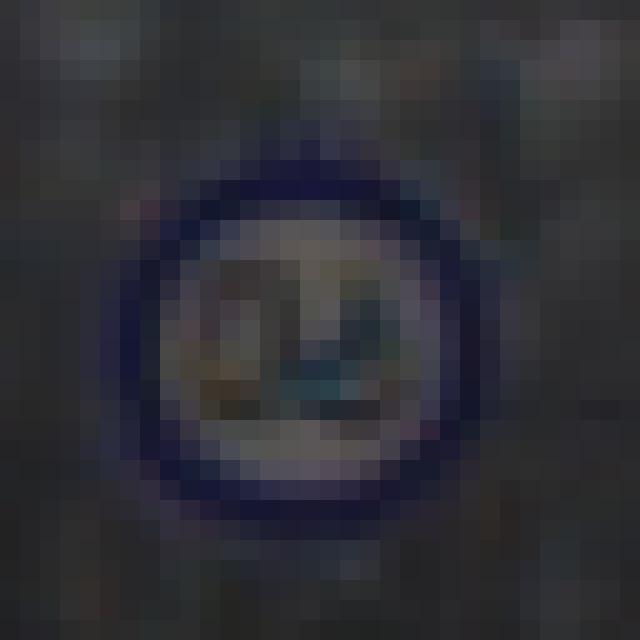SPEED-LIMIT-60: (96, 145, 490, 550)
